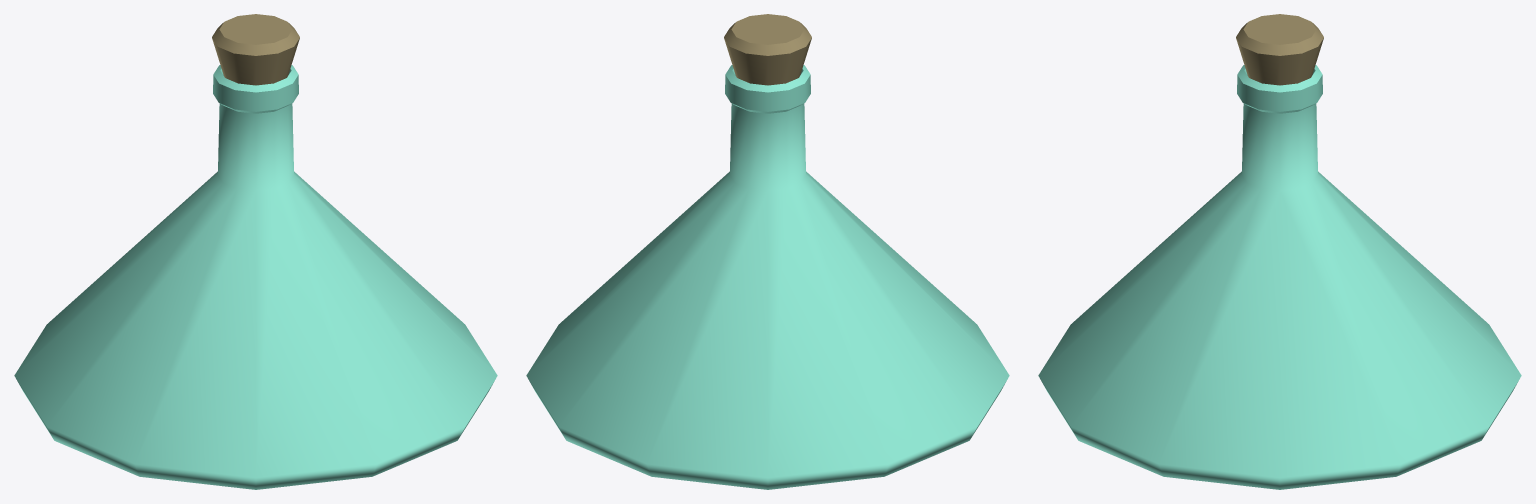
Rendered from Flask.fbx.
3 renders of one model, left to right at view 1: azimuth 30°, elevation 25°; view 2: azimuth 150°, elevation 25°; view 3: azimuth 270°, elevation 25°, orthographic.
Visible parts, largest first — view 1: WideFlask, Cork; view 2: WideFlask, Cork; view 3: WideFlask, Cork.
Part boxes in pixels (bbox=[...]): WideFlask: bbox=[14, 65, 497, 489]; Cork: bbox=[212, 14, 299, 85]; WideFlask: bbox=[526, 65, 1009, 489]; Cork: bbox=[724, 14, 811, 85]; WideFlask: bbox=[1038, 65, 1521, 489]; Cork: bbox=[1236, 14, 1323, 85].
Bounding box in the file's own units: 6.83 × 5.67 × 6.83.
